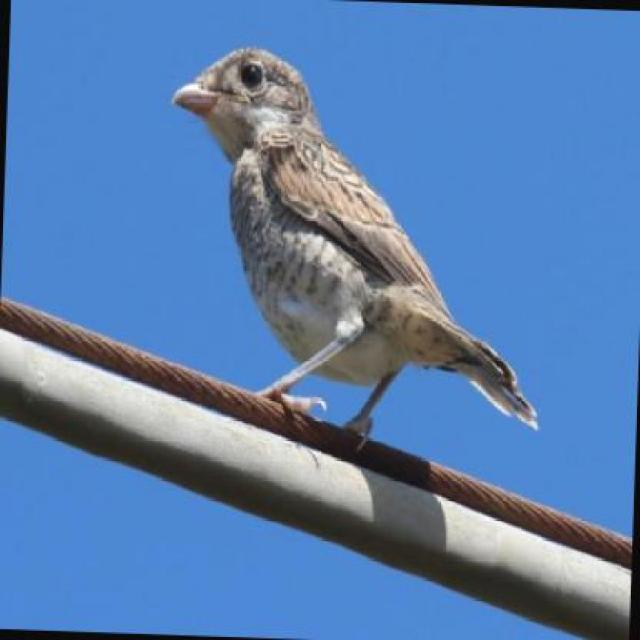Bird: (164, 37, 557, 435)
